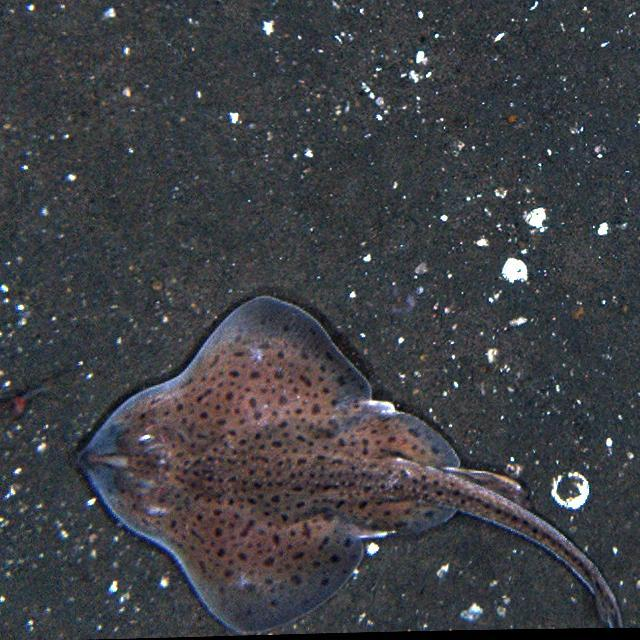skate: (74, 294, 634, 634)
